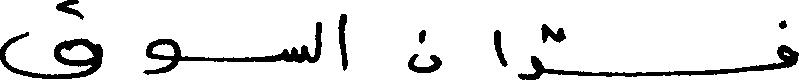X: (0, 0, 99, 79), (408, 25, 442, 77), (146, 34, 179, 79), (776, 15, 798, 73), (521, 20, 542, 79), (494, 25, 507, 71), (283, 40, 305, 67), (339, 9, 347, 75), (315, 17, 321, 66)
